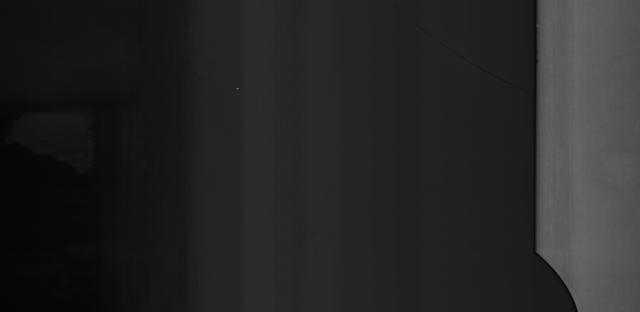crescent_gap: (520, 243, 590, 312)
